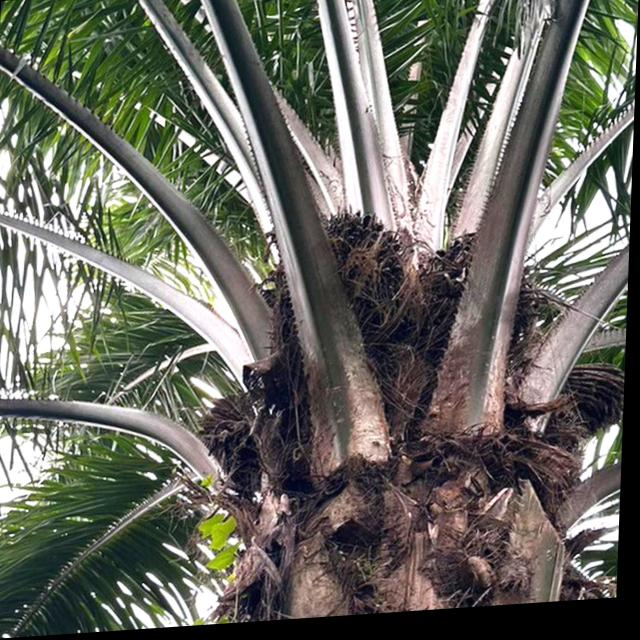unripe: (266, 201, 418, 396)
